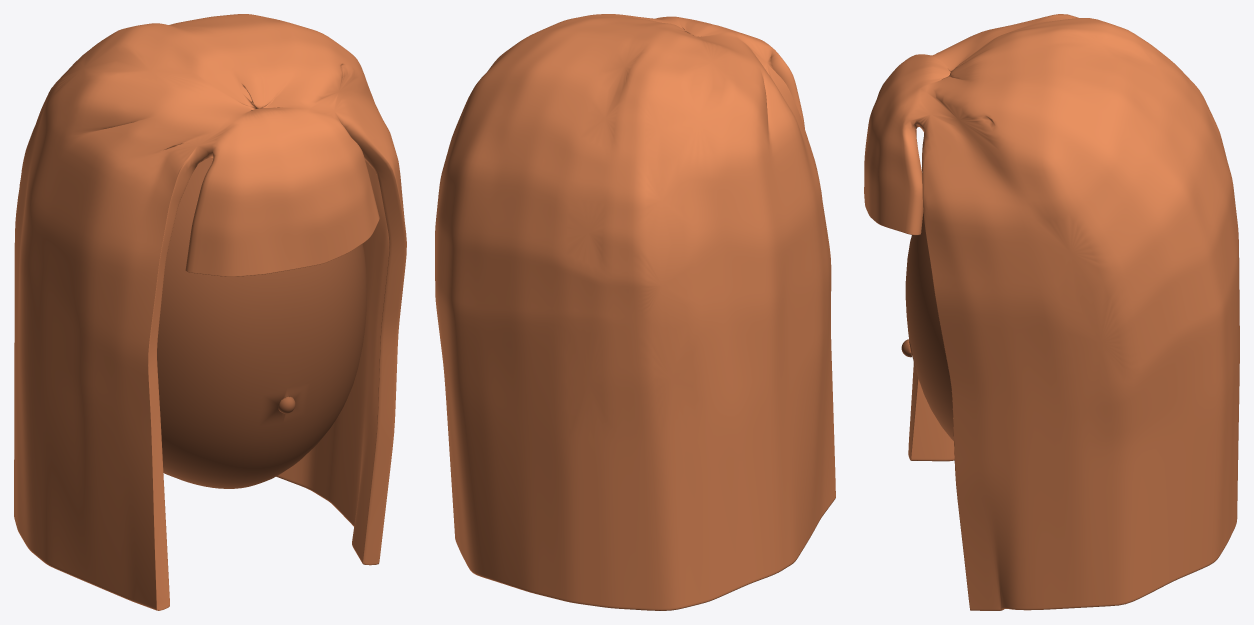
The model's file is haliey_avatar_compressed.glb.
3 views of the same model, side by side, from view 1: azimuth 30°, elevation 25°; view 2: azimuth 150°, elevation 25°; view 3: azimuth 270°, elevation 25° (orthographic). The views are drawn at different scales.
Parts seen in each view (by area): view 1: hair1_ginger, r_head_deep; view 2: hair1_ginger; view 3: hair1_ginger, r_head_deep.
Part boxes in pixels (x1,y1,x2,y2): hair1_ginger: (14, 14, 406, 610); r_head_deep: (157, 157, 366, 488); hair1_ginger: (435, 14, 835, 610); hair1_ginger: (864, 14, 1239, 610); r_head_deep: (901, 212, 953, 440).
Bounding box in the file's own units: 60358 × 92351 × 61448.
